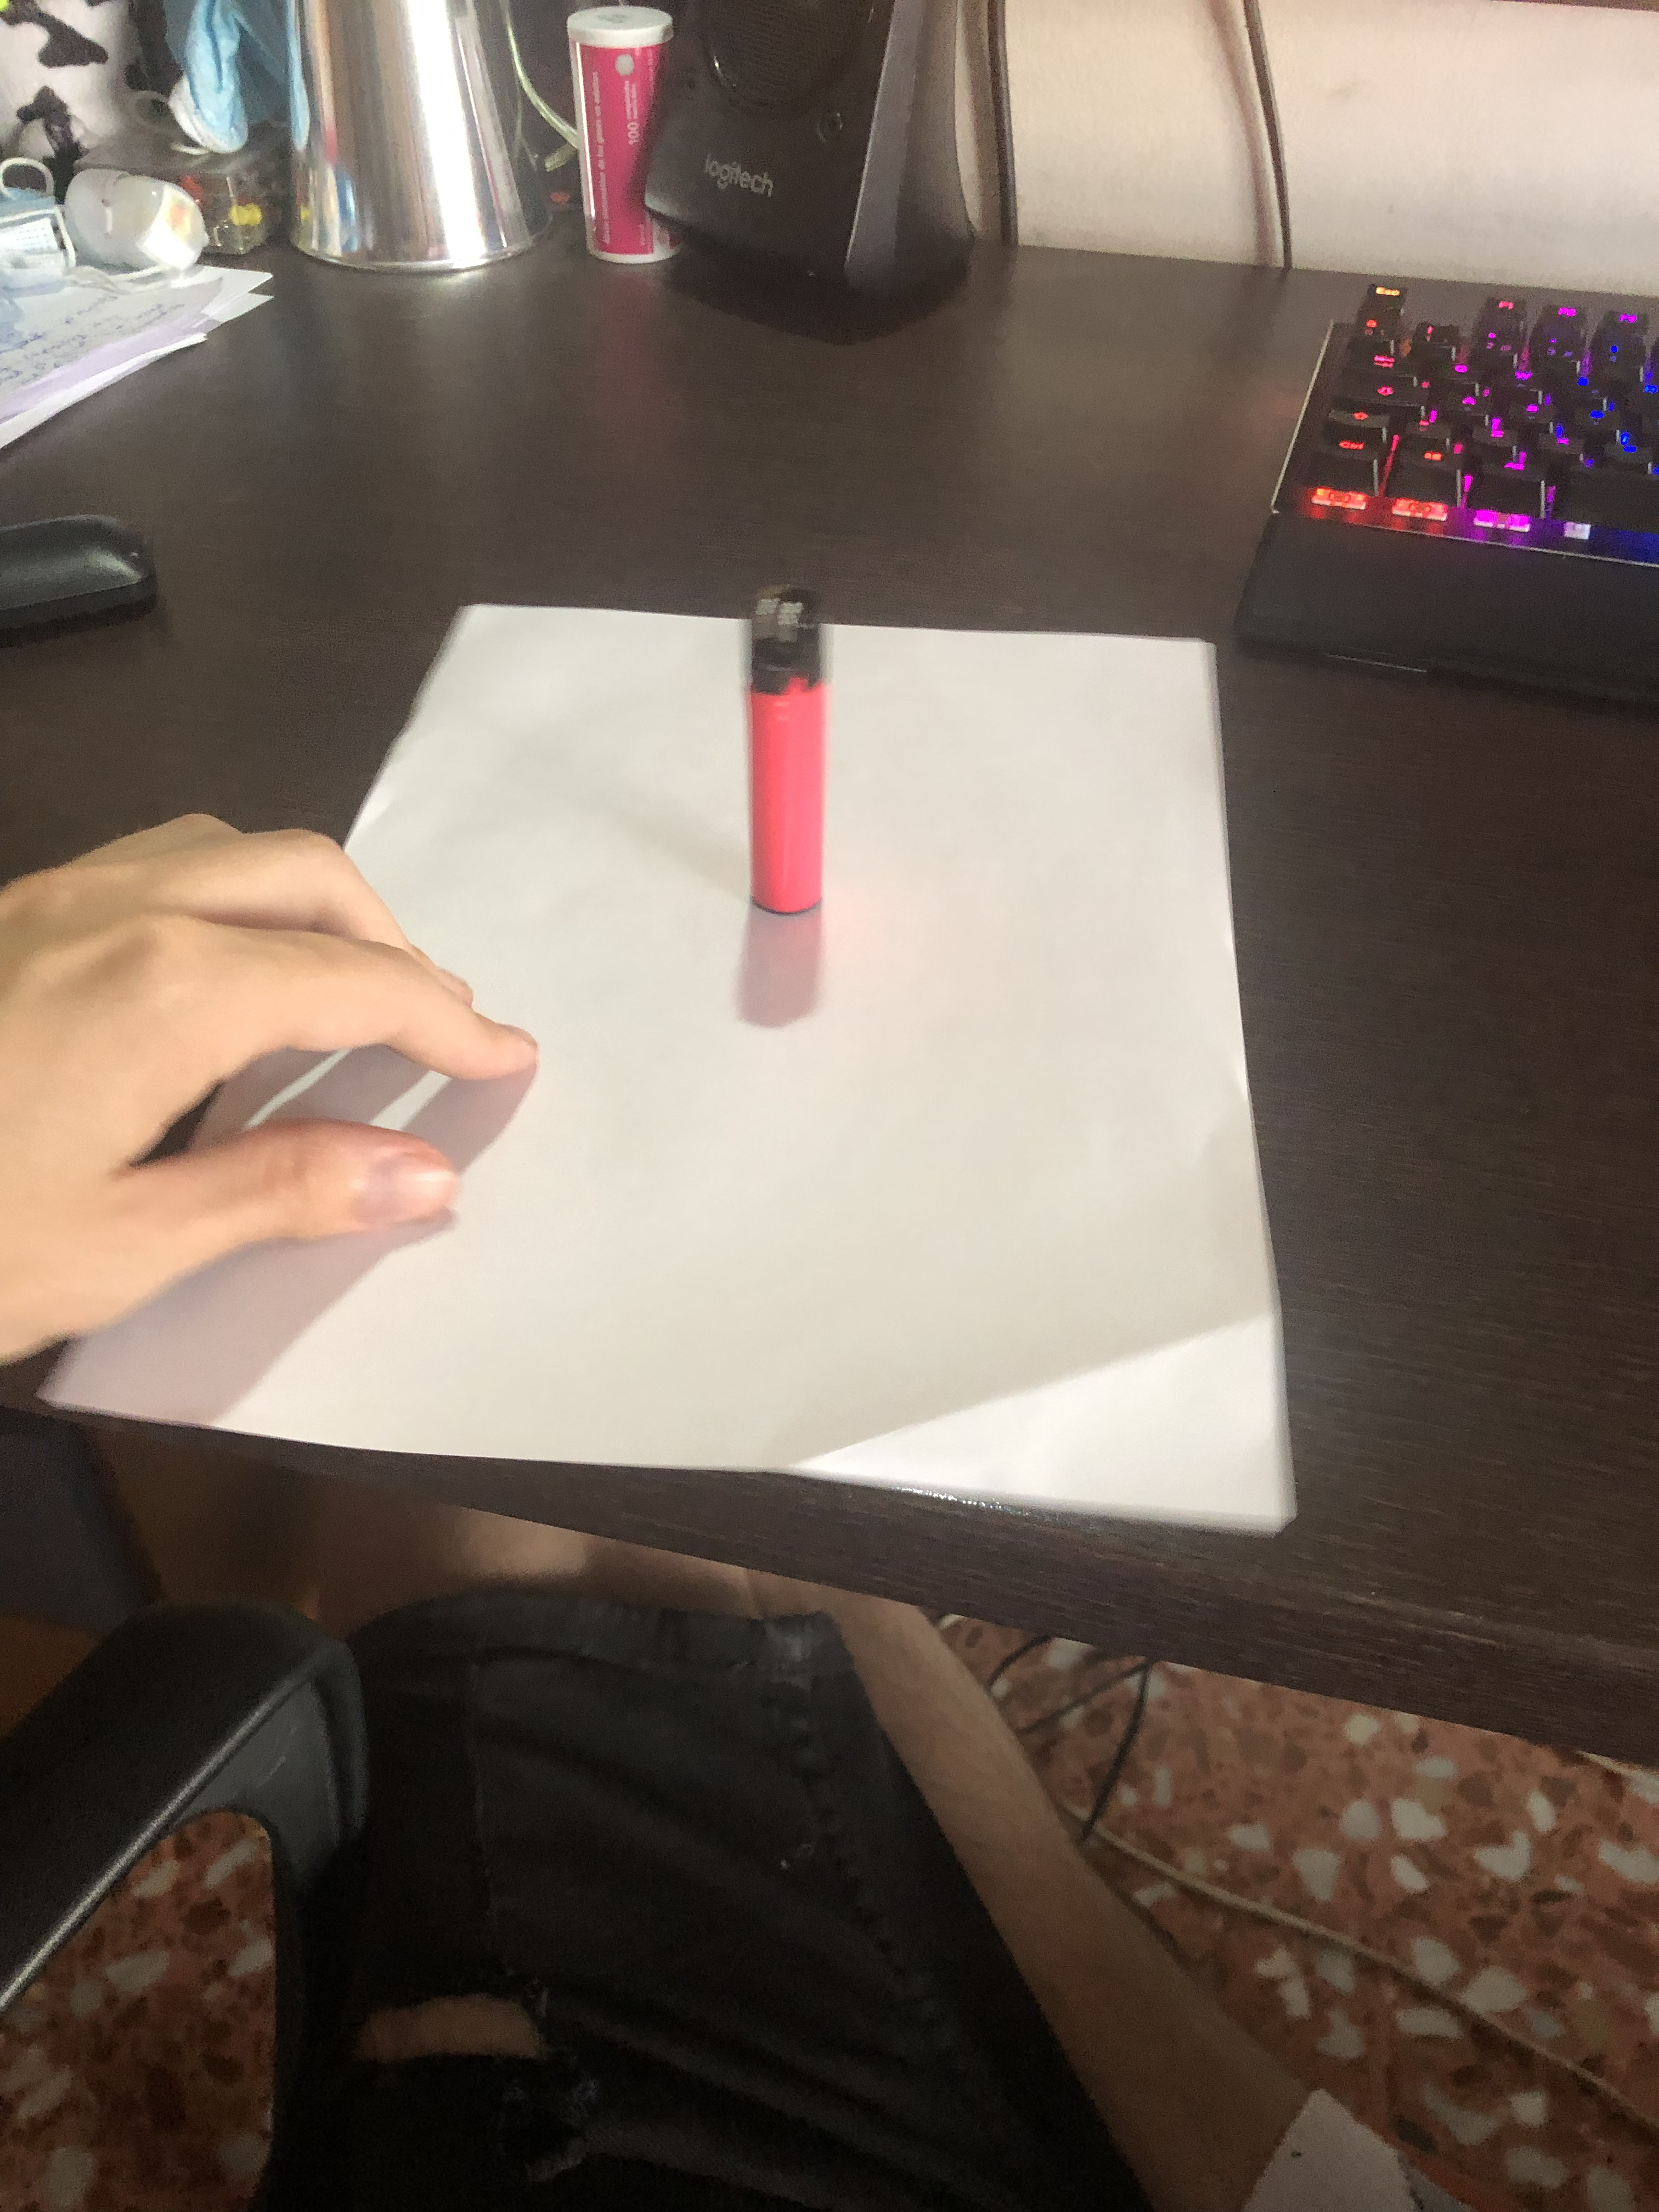Mechero: (730, 577, 843, 934)
